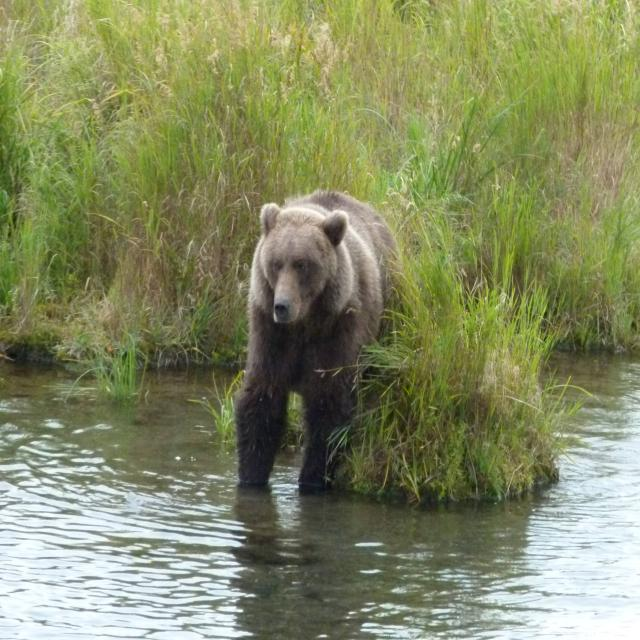bear face: (238, 191, 397, 487)
